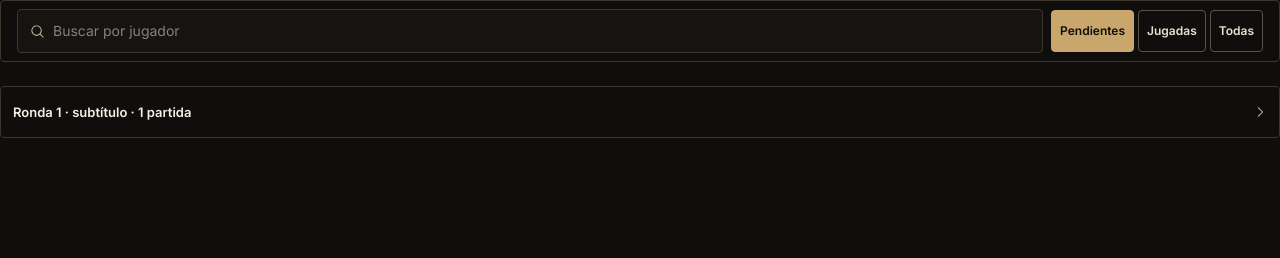
Test: CA-9: la cabecera pliega y despliega; un bloque plegado no pinta ni deja pulsar sus tarjetas › pulsar la cabecera despliega, y pulsarla otra vez pliega de nuevo
Click the heading "Ronda 1 · subtítulo · 1 partida".
click(102, 112)  # box [13, 104, 1267, 120]
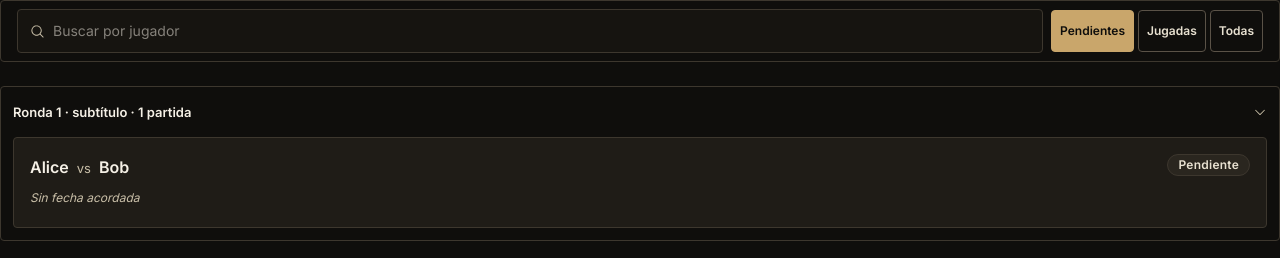
Expected: the text "Alice" is shown, [30, 157, 69, 177]
Click the heading "Ronda 1 · subtítulo · 1 partida".
click(102, 112)  # box [13, 104, 1267, 120]
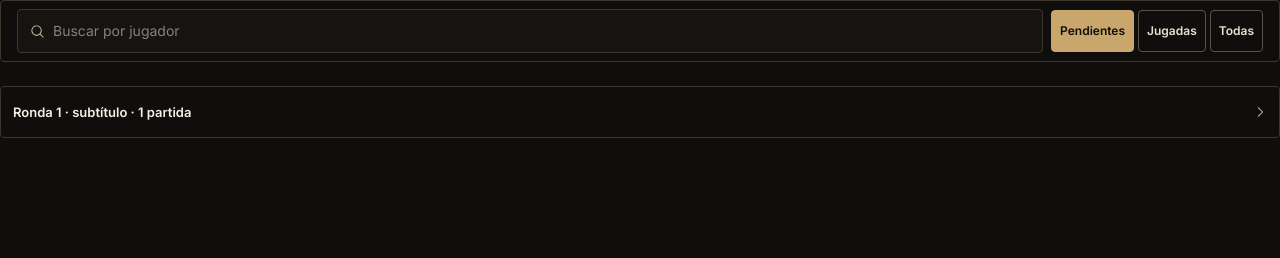
Expected: the text "Alice" is gone
